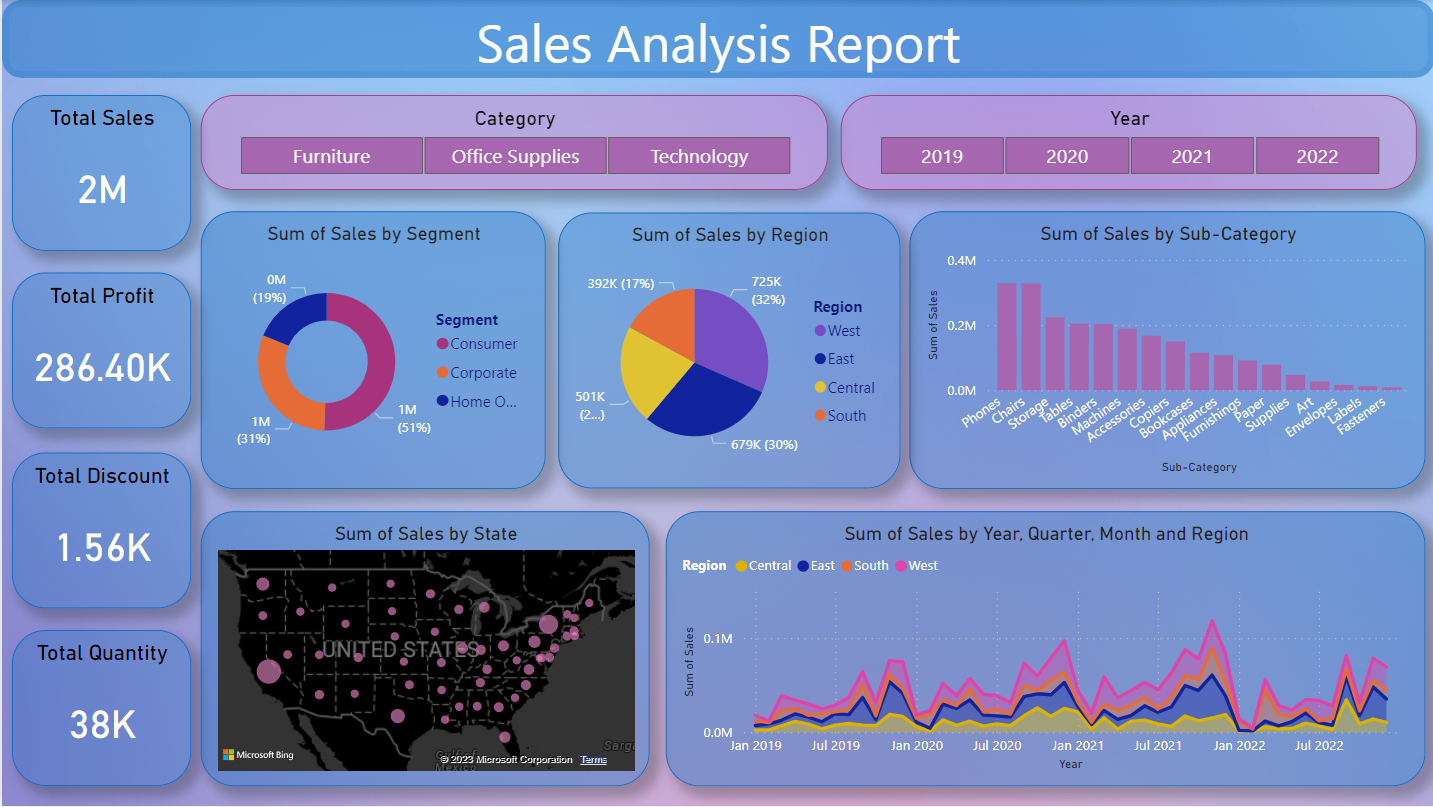

Layout of this report page (visuals, bound fields, positions):
{"tool":"powerbi","page":{"name":"Page 1","canvas":[1280,720],"ordinal":0},"visuals":[{"type":"shape","box":[0,0,1279.3,69.8],"z":0},{"type":"card","title":"Total Sales","fields":{"Values":["Sum(TechnoEdge Monthy Sales Data.Sales)"]},"box":[8.9,84.8,159.6,139.5],"z":1000},{"type":"card","title":"Total Discount","fields":{"Values":["Sum(TechnoEdge Monthy Sales Data.Discount)"]},"box":[8.9,404.1,159.6,139.5],"z":2000},{"type":"card","title":"Total Profit","fields":{"Values":["Sum(TechnoEdge Monthy Sales Data.Profit)"]},"box":[8.9,243.3,159.6,139.5],"z":3000},{"type":"card","title":"Total Quantity","fields":{"Values":["Sum(TechnoEdge Monthy Sales Data.Quantity)"]},"box":[8.9,562.6,159.6,139.5],"z":4000},{"type":"stackedAreaChart","fields":{"Category":["TechnoEdge Monthy Sales Data.Order Date.Variation.Date Hierarchy.Year","TechnoEdge Monthy Sales Data.Order Date.Variation.Date Hierarchy.Quarter","TechnoEdge Monthy Sales Data.Order Date.Variation.Date Hierarchy.Month","TechnoEdge Monthy Sales Data.Order Date.Variation.Date Hierarchy.Day"],"Y":["Sum(TechnoEdge Monthy Sales Data.Sales)"],"Series":["TechnoEdge Monthy Sales Data.Region"]},"box":[592.7,456.6,678.7,245.6],"z":5000},{"type":"map","fields":{"Category":["TechnoEdge Monthy Sales Data.State"],"Size":["Sum(TechnoEdge Monthy Sales Data.Sales)"]},"box":[177.5,456.6,400.7,245.6],"z":6000},{"type":"clusteredColumnChart","fields":{"Y":["Sum(TechnoEdge Monthy Sales Data.Sales)"],"Category":["TechnoEdge Monthy Sales Data.Sub-Category"]},"box":[810.4,188.7,461,247.8],"z":7000},{"type":"pieChart","fields":{"Category":["TechnoEdge Monthy Sales Data.Region"],"Y":["Sum(TechnoEdge Monthy Sales Data.Sales)"]},"box":[496.7,189.8,305.9,246.7],"z":8000},{"type":"donutChart","fields":{"Y":["Sum(TechnoEdge Monthy Sales Data.Sales)"],"Category":["TechnoEdge Monthy Sales Data.Segment"]},"box":[177.5,188.7,308.1,247.8],"z":9000},{"type":"slicer","title":"Category","fields":{"Values":["TechnoEdge Monthy Sales Data.Category"]},"box":[177.5,84.8,560.4,84.8],"z":10000},{"type":"slicer","title":"Year","fields":{"Values":["TechnoEdge Monthy Sales Data.Year"]},"box":[749,84.8,514.6,84.8],"z":11000}]}

Visuals, with their boxes in screenshot pixels (x1, y1, x2, y2), scaled from the page's 1280x720 canvas onto the 1433x807 screenshot:
shape: Rect(0, 0, 1432, 78)
"Total Sales" card: Rect(10, 95, 189, 251)
"Total Discount" card: Rect(10, 453, 189, 609)
"Total Profit" card: Rect(10, 273, 189, 429)
"Total Quantity" card: Rect(10, 631, 189, 787)
stackedAreaChart - TechnoEdge Monthy Sales Data.Order Date.Variation.Date Hierarchy.Year x TechnoEdge Monthy Sales Data.Order Date.Variation.Date Hierarchy.Quarter: Rect(664, 512, 1423, 787)
map - TechnoEdge Monthy Sales Data.State x Sum(TechnoEdge Monthy Sales Data.Sales): Rect(199, 512, 647, 787)
clusteredColumnChart - Sum(TechnoEdge Monthy Sales Data.Sales) x TechnoEdge Monthy Sales Data.Sub-Category: Rect(907, 212, 1423, 489)
pieChart - TechnoEdge Monthy Sales Data.Region x Sum(TechnoEdge Monthy Sales Data.Sales): Rect(556, 213, 899, 489)
donutChart - Sum(TechnoEdge Monthy Sales Data.Sales) x TechnoEdge Monthy Sales Data.Segment: Rect(199, 212, 544, 489)
"Category" slicer: Rect(199, 95, 826, 190)
"Year" slicer: Rect(839, 95, 1415, 190)
